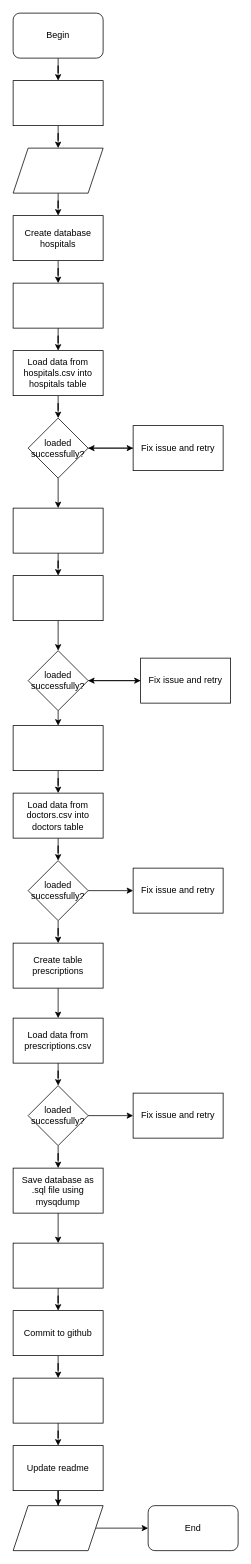
The diagram is 251 pixels wide and 1564 high, and some of its shapes have lost their labels. Each missing label, with the centre of its shape:
"Add to github repo" goes at (57,1265).
"Connect to MySQL server" goes at (57,103).
"Create table doctors" goes at (57,748).
"Create table hospitals" goes at (57,305).
"Create table patients" goes at (57,530).
"Database is uploaded to github" goes at (57,1528).
"Enter password" goes at (57,170).
"Load data from patients.csv into patients table" goes at (57,598).
"Push to github" goes at (57,1400).
